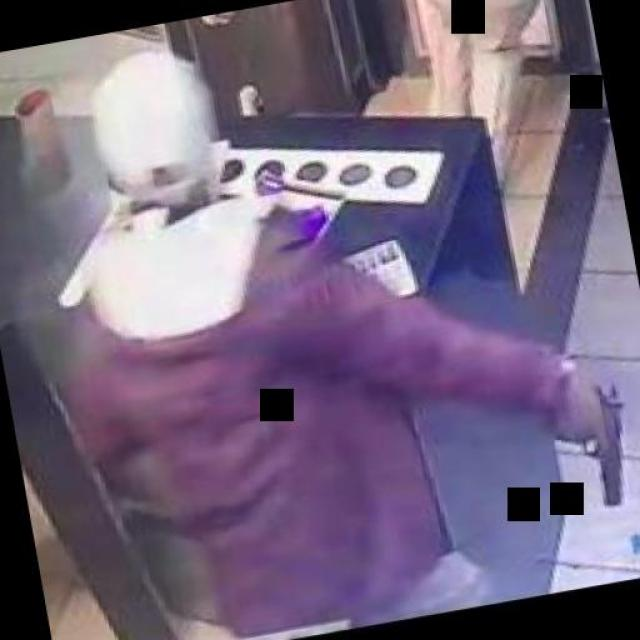gun: (536, 372, 638, 514)
